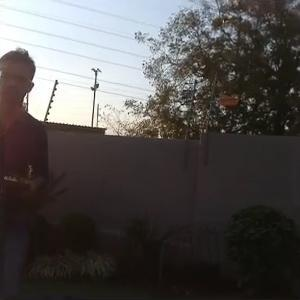follow: (0, 51, 74, 297)
